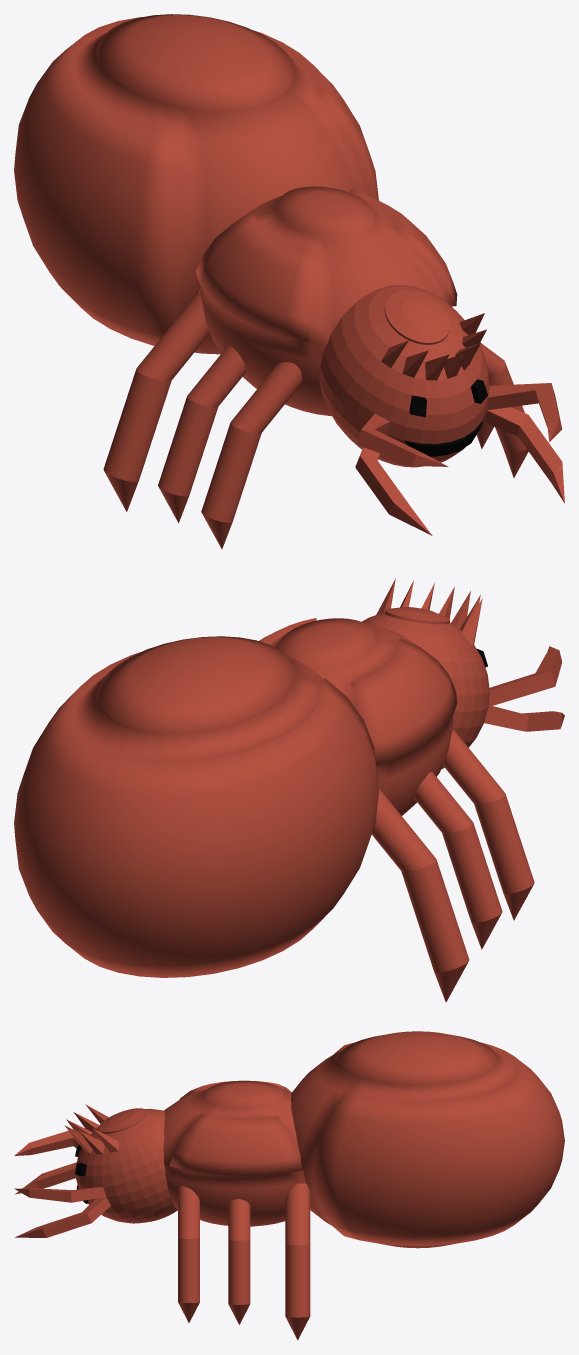
The model's file is Model_Defender_Advanced.fbx.
3 views of the same model, one above another, from view 1: azimuth 30°, elevation 25°; view 2: azimuth 150°, elevation 25°; view 3: azimuth 270°, elevation 25° (orthographic). The views are drawn at different scales.
Visible parts, largest first — view 1: Sphere, Sphere.001, Sphere.002, Cylinder; view 2: Sphere, Cylinder, Sphere.001, Sphere.002; view 3: Sphere, Sphere.001, Sphere.002, Cylinder.
Part boxes in pixels (left/top/right/bottom): Sphere: left=14, top=14, right=378, bottom=354; Sphere.001: left=196, top=186, right=457, bottom=416; Sphere.002: left=319, top=285, right=564, bottom=535; Cylinder: left=103, top=291, right=528, bottom=549; Sphere: left=14, top=636, right=378, bottom=977; Cylinder: left=371, top=728, right=534, bottom=1002; Sphere.001: left=259, top=618, right=457, bottom=815; Sphere.002: left=361, top=578, right=564, bottom=769; Sphere: left=291, top=1031, right=564, bottom=1248; Sphere.001: left=163, top=1080, right=305, bottom=1226; Sphere.002: left=14, top=1104, right=177, bottom=1237; Cylinder: left=178, top=1183, right=310, bottom=1340.
Size of the model in its own units: 457 by 449 by 908.
